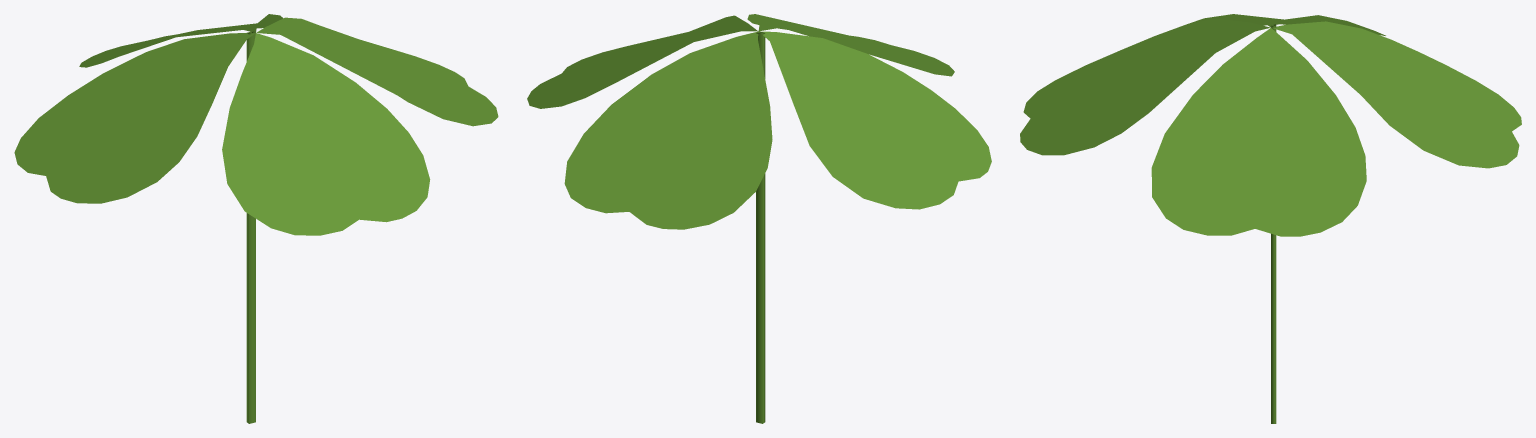
File: FourLeafClover.glb
3 renders of one model, left to right at view 1: azimuth 30°, elevation 25°; view 2: azimuth 150°, elevation 25°; view 3: azimuth 270°, elevation 25°, orthographic.
Visible parts, largest first — view 1: FourLeafClover; view 2: FourLeafClover; view 3: FourLeafClover.
Part boxes in pixels (left/top/right/bottom): FourLeafClover: left=14, top=14, right=498, bottom=423; FourLeafClover: left=527, top=14, right=991, bottom=423; FourLeafClover: left=1020, top=14, right=1521, bottom=423.
Size of what is drawn, in the model's own units: 0.2212 by 0.1927 by 0.2213.
Materials: 1 (1 with a texture image).
